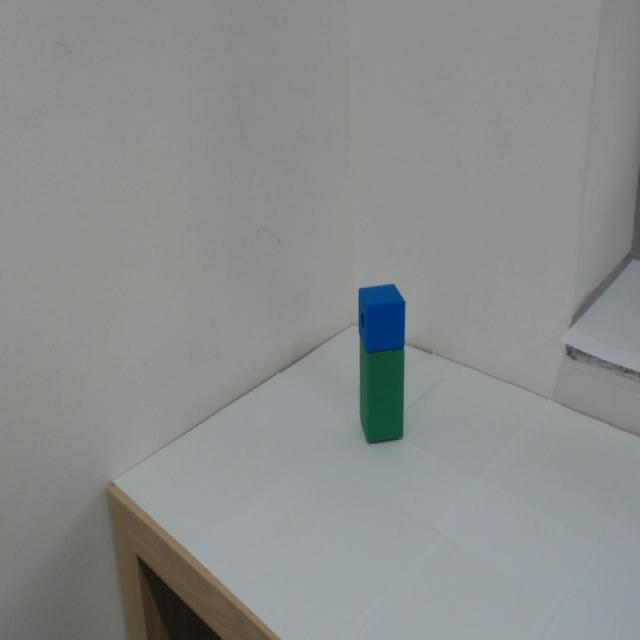cube: (344, 281, 431, 349)
